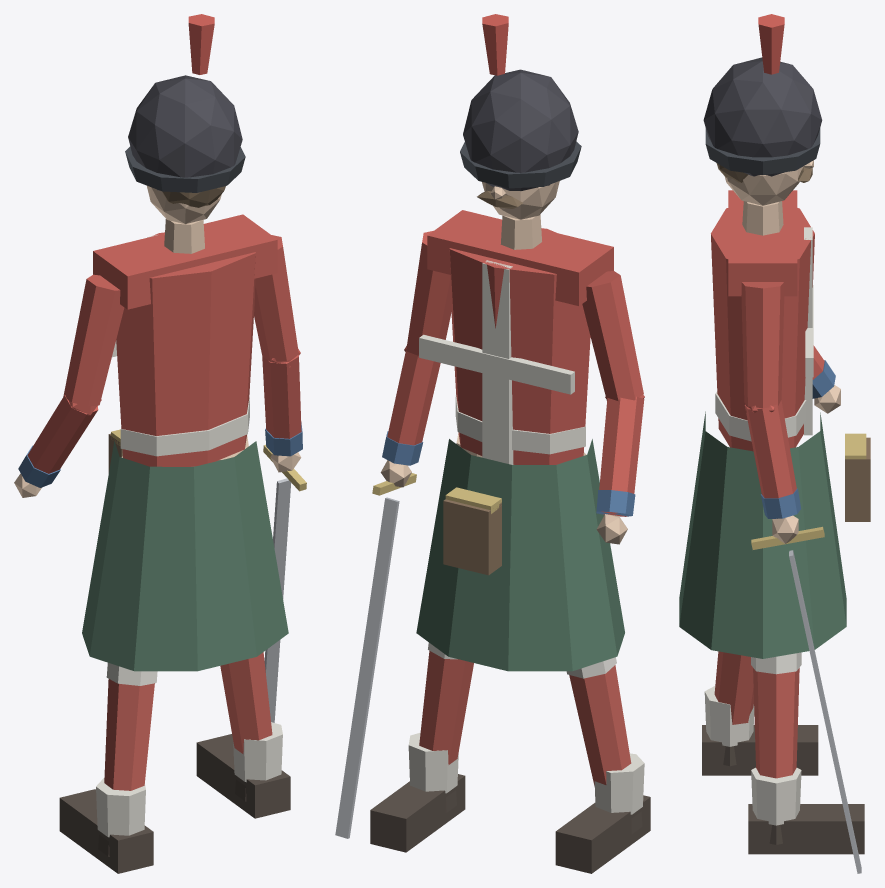
The model's file is black_watch_officer.glb.
3 views of the same model, side by side, from view 1: azimuth 30°, elevation 25°; view 2: azimuth 150°, elevation 25°; view 3: azimuth 270°, elevation 25° (orthographic).
Parts seen in each view (by area): view 1: scarlet, tartan_g, feather, hose_red, boot, buff, skin, steel, tartan_k, facing_blue, hackle, hose_white (+1 smaller); view 2: scarlet, tartan_g, buff, feather, boot, hose_red, steel, skin, leather, tartan_k, facing_blue, hackle (+2 smaller); view 3: tartan_g, scarlet, feather, boot, hose_red, buff, skin, tartan_k, steel, leather, facing_blue, hackle (+3 smaller).
Boxes of the visible parts, x1=… form: scarlet: x1=27, y1=214, x2=301, y2=473; tartan_g: x1=82, y1=441, x2=288, y2=671; feather: x1=128, y1=75, x2=242, y2=190; hose_red: x1=104, y1=652, x2=272, y2=790; boot: x1=59, y1=734, x2=290, y2=873; buff: x1=96, y1=235, x2=282, y2=837; skin: x1=14, y1=185, x2=301, y2=497; steel: x1=264, y1=478, x2=291, y2=722; tartan_k: x1=125, y1=146, x2=245, y2=192; facing_blue: x1=18, y1=422, x2=302, y2=487; hackle: x1=188, y1=14, x2=214, y2=74; hose_white: x1=106, y1=662, x2=157, y2=685; scarlet: x1=387, y1=210, x2=644, y2=516; tartan_g: x1=416, y1=439, x2=624, y2=671; buff: x1=408, y1=260, x2=644, y2=814; feather: x1=463, y1=69, x2=578, y2=190; boot: x1=370, y1=774, x2=650, y2=873; hose_red: x1=419, y1=650, x2=631, y2=785; steel: x1=335, y1=497, x2=399, y2=838; skin: x1=380, y1=181, x2=627, y2=544; leather: x1=443, y1=499, x2=501, y2=575; tartan_k: x1=460, y1=141, x2=581, y2=188; facing_blue: x1=382, y1=431, x2=635, y2=516; hackle: x1=482, y1=14, x2=508, y2=75; tartan_g: x1=679, y1=411, x2=846, y2=658; scarlet: x1=711, y1=190, x2=824, y2=498; feather: x1=703, y1=57, x2=822, y2=176; boot: x1=702, y1=725, x2=864, y2=854; hose_red: x1=714, y1=651, x2=799, y2=778; buff: x1=704, y1=227, x2=813, y2=825; skin: x1=724, y1=160, x2=840, y2=543; tartan_k: x1=705, y1=128, x2=820, y2=174; steel: x1=789, y1=550, x2=861, y2=873; leather: x1=777, y1=437, x2=870, y2=521; facing_blue: x1=760, y1=360, x2=835, y2=518; hackle: x1=758, y1=14, x2=784, y2=74.
Size of the model in its own units: 0.7614 by 2.17 by 0.4707.
